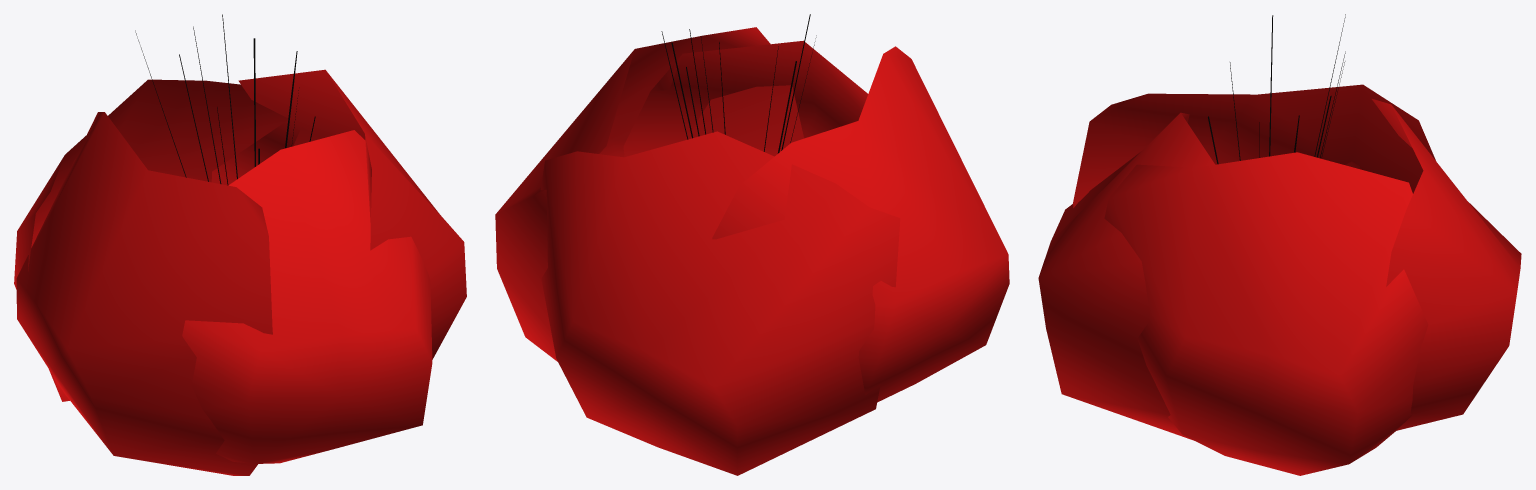
3 renders of one model, left to right at view 1: azimuth 30°, elevation 25°; view 2: azimuth 150°, elevation 25°; view 3: azimuth 270°, elevation 25°, orthographic. The views are drawn at different scales.
Parts seen in each view (by area): view 1: ba66aeac; view 2: ba66aeac; view 3: ba66aeac.
Part boxes in pixels (bbox=[...]): ba66aeac: bbox=[14, 14, 466, 475]; ba66aeac: bbox=[495, 14, 1009, 475]; ba66aeac: bbox=[1038, 14, 1521, 475].
Size of the model in its own units: 0.1197 by 0.1111 by 0.1209.
